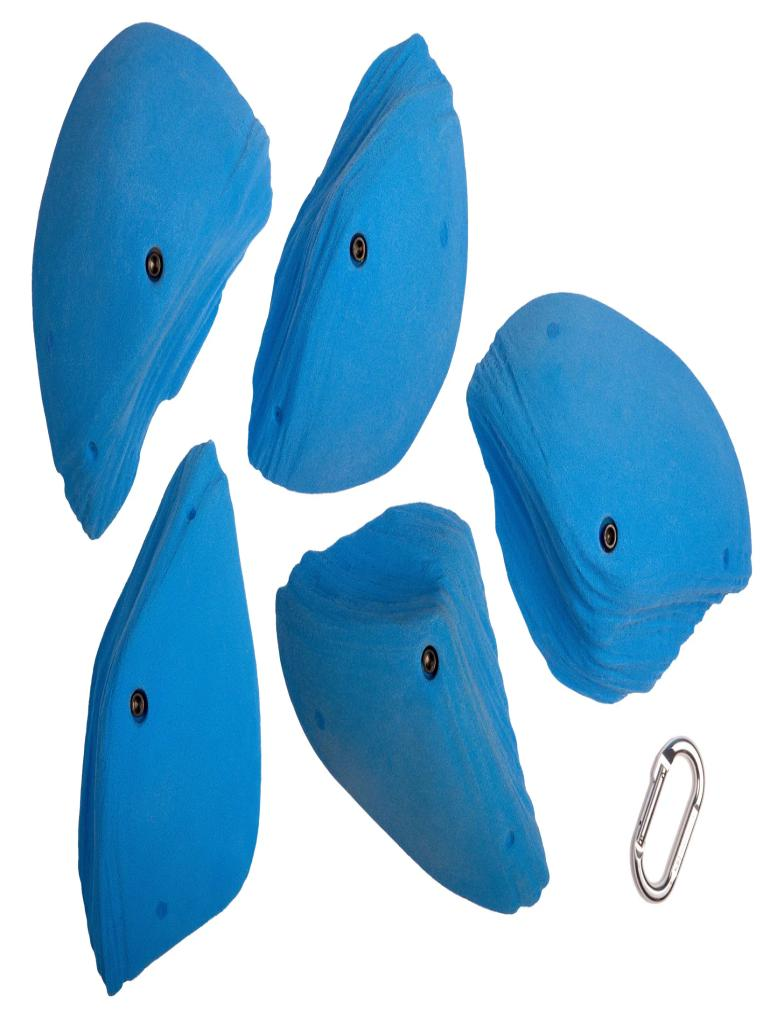sloper: (33, 23, 272, 538), (467, 294, 751, 701), (276, 505, 548, 912), (248, 35, 468, 492), (78, 442, 260, 994)
